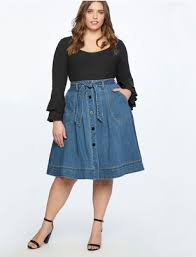C_skirt: (39, 78, 148, 193)
